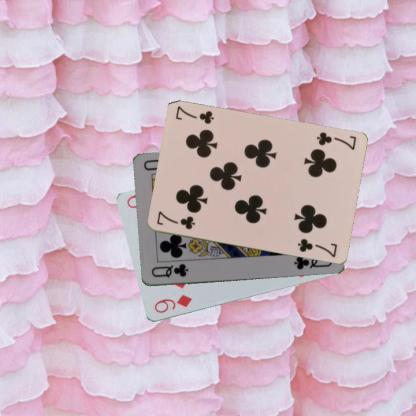7c: (313, 129, 357, 152), (154, 209, 196, 232)
9d: (152, 292, 194, 315)
Qc: (148, 261, 190, 279)
